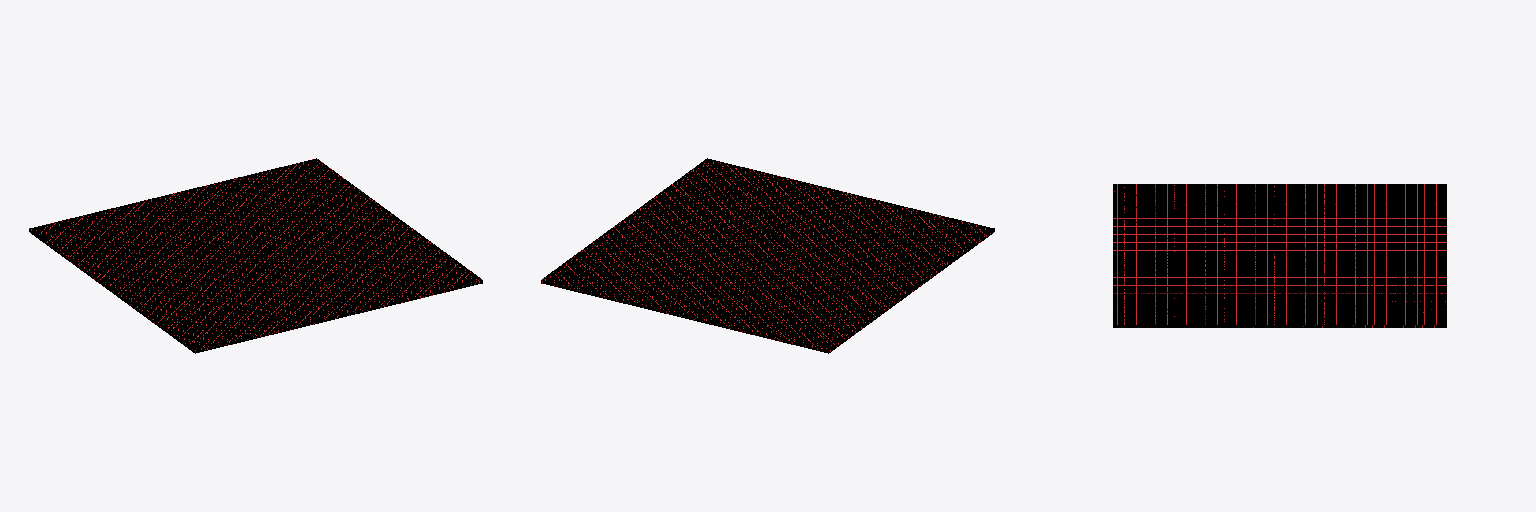
3 renders of one model, left to right at view 1: azimuth 30°, elevation 25°; view 2: azimuth 150°, elevation 25°; view 3: azimuth 270°, elevation 25°, orthographic.
Parts seen in each view (by area): view 1: pPlane3; view 2: pPlane3; view 3: pPlane3.
Part boxes in pixels (x1,y1,x2,y2): pPlane3: (29, 158, 482, 353); pPlane3: (541, 158, 994, 353); pPlane3: (1113, 184, 1446, 327).
Size of the model in its own units: 1 by 0.01 by 1.
Materials: 1 (1 with a texture image).